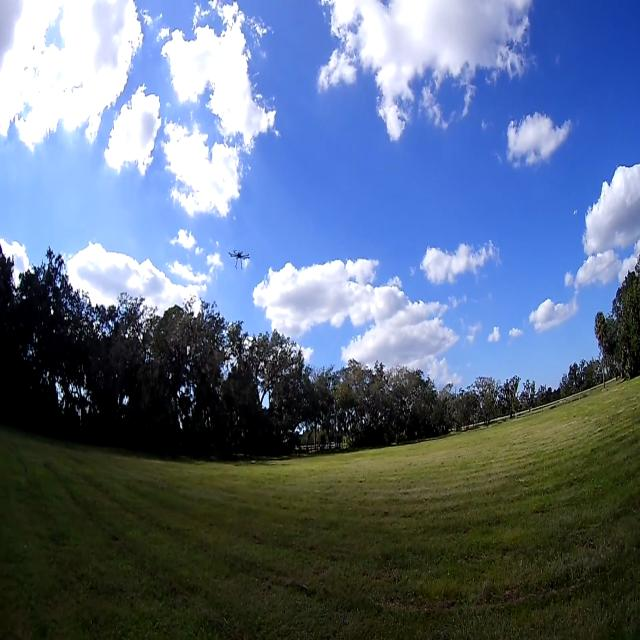drone: (228, 234, 255, 276)
